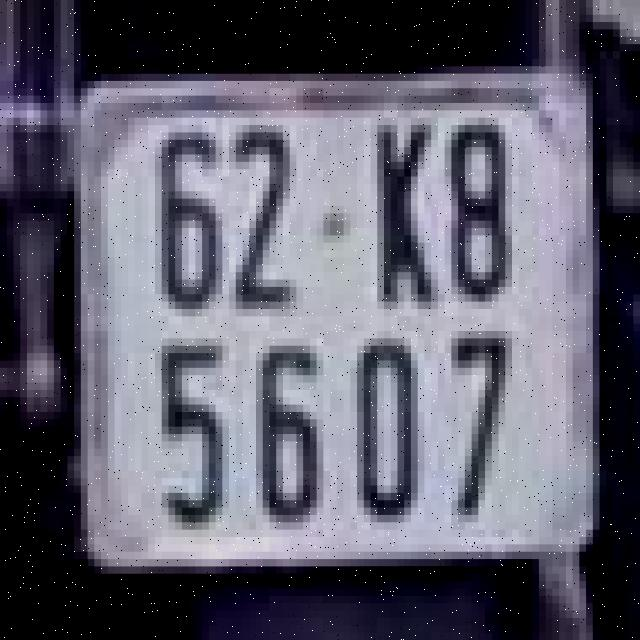0: (337, 324, 424, 522)
2: (226, 110, 313, 316)
5: (148, 324, 236, 544)
6: (142, 118, 229, 309), (252, 342, 334, 526)
7: (448, 327, 522, 519)
8: (441, 106, 522, 312)
K: (370, 110, 444, 316)
